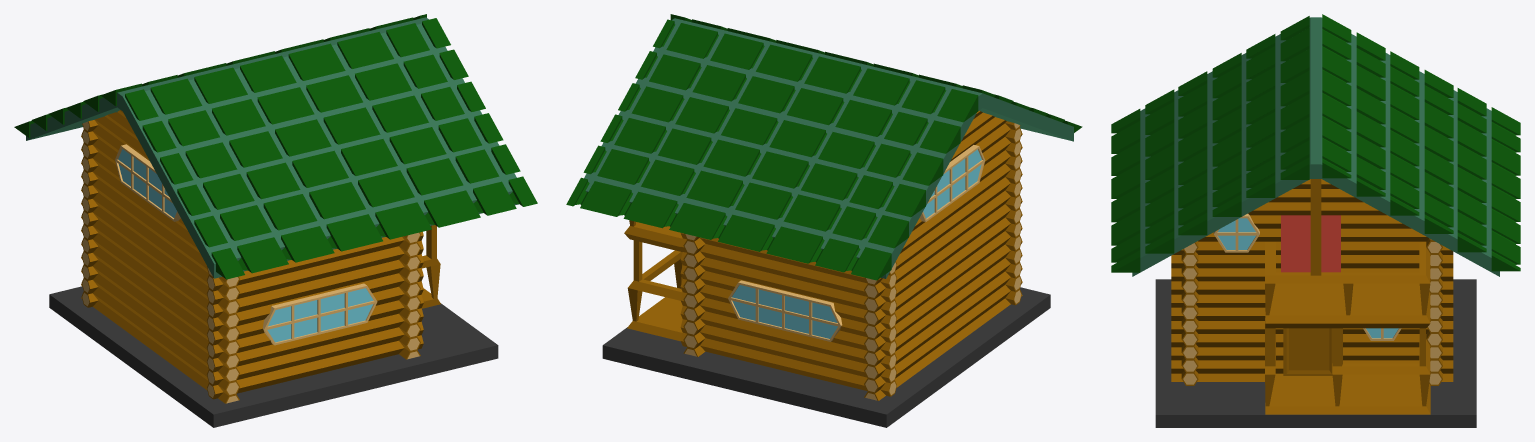
File: Farm_home_third_level (1).fbx
The picture shows the model from 3 angles, left to right: view 1: azimuth 30°, elevation 25°; view 2: azimuth 150°, elevation 25°; view 3: azimuth 270°, elevation 25°; orthographic projection. The views are drawn at different scales.
Visible parts, largest first — view 1: Farm_house_third_level; view 2: Farm_house_third_level; view 3: Farm_house_third_level.
Boxes of the visible parts, box(x1,y1,x2,y2) form: Farm_house_third_level: box(14, 14, 537, 427); Farm_house_third_level: box(566, 14, 1082, 427); Farm_house_third_level: box(1111, 14, 1520, 427).
Size of the model in its own units: 2448 by 2073 by 2823.
